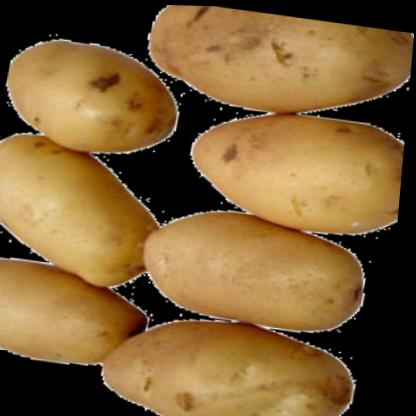potato: (130, 197, 390, 338), (133, 3, 416, 127), (177, 97, 409, 244), (93, 300, 371, 416), (0, 128, 182, 291), (0, 30, 197, 164), (0, 255, 162, 374)
